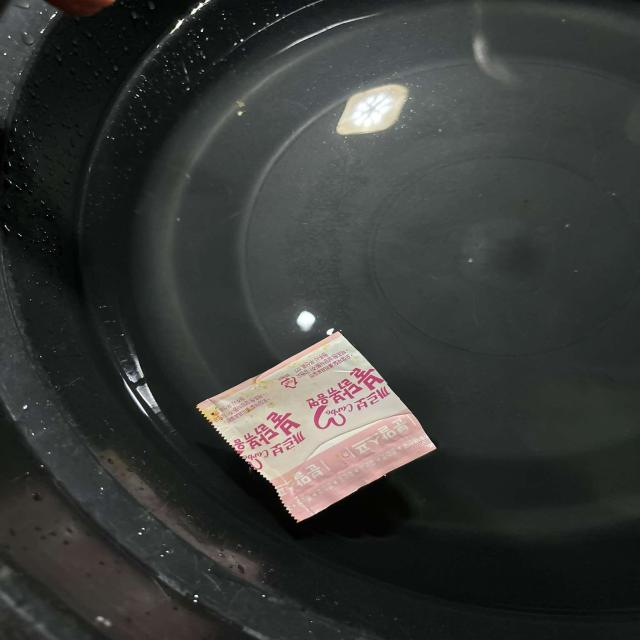Plastic Wrapper: (184, 302, 470, 533)
